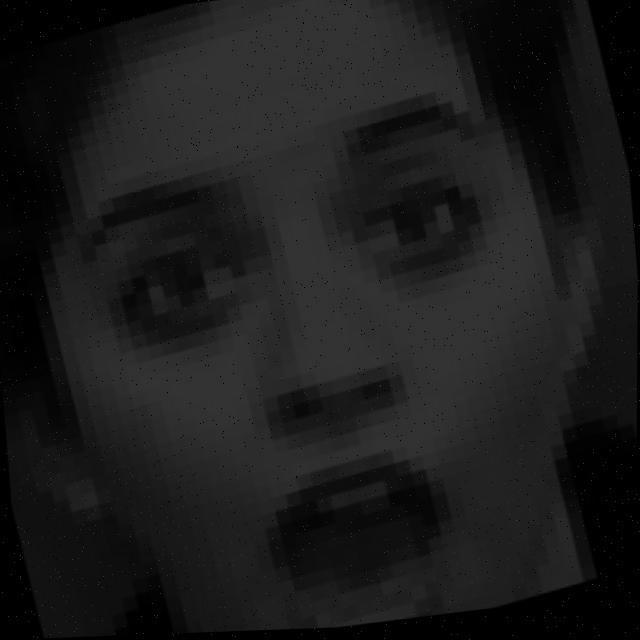Surprised: (19, 79, 634, 640)
